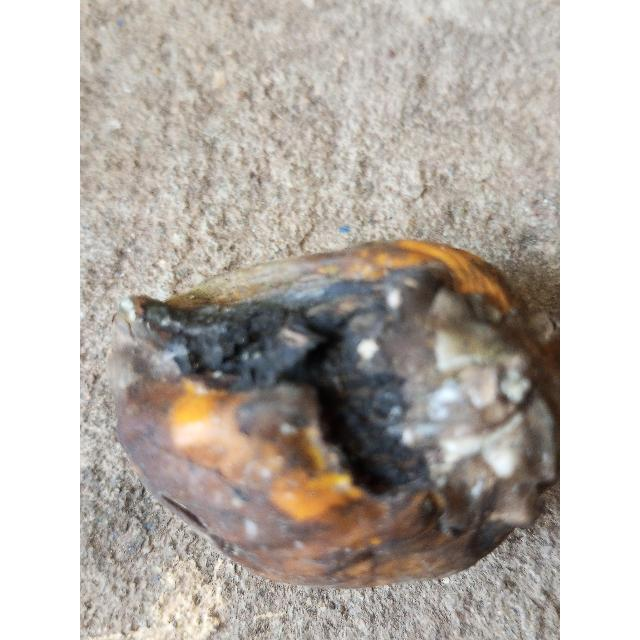damaged: (107, 239, 560, 592)
